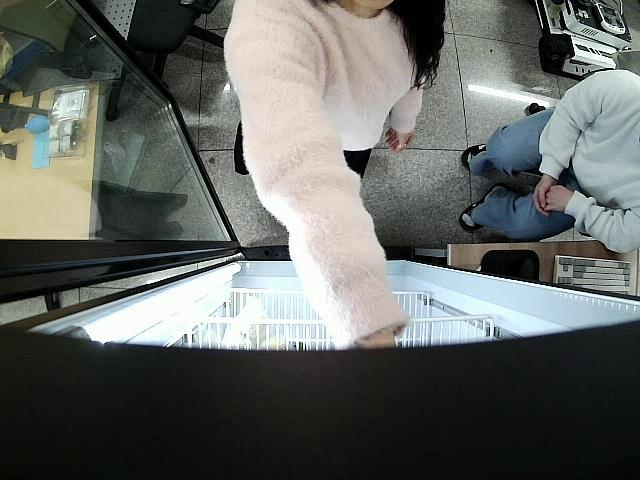00_hand: (385, 126, 414, 152)
